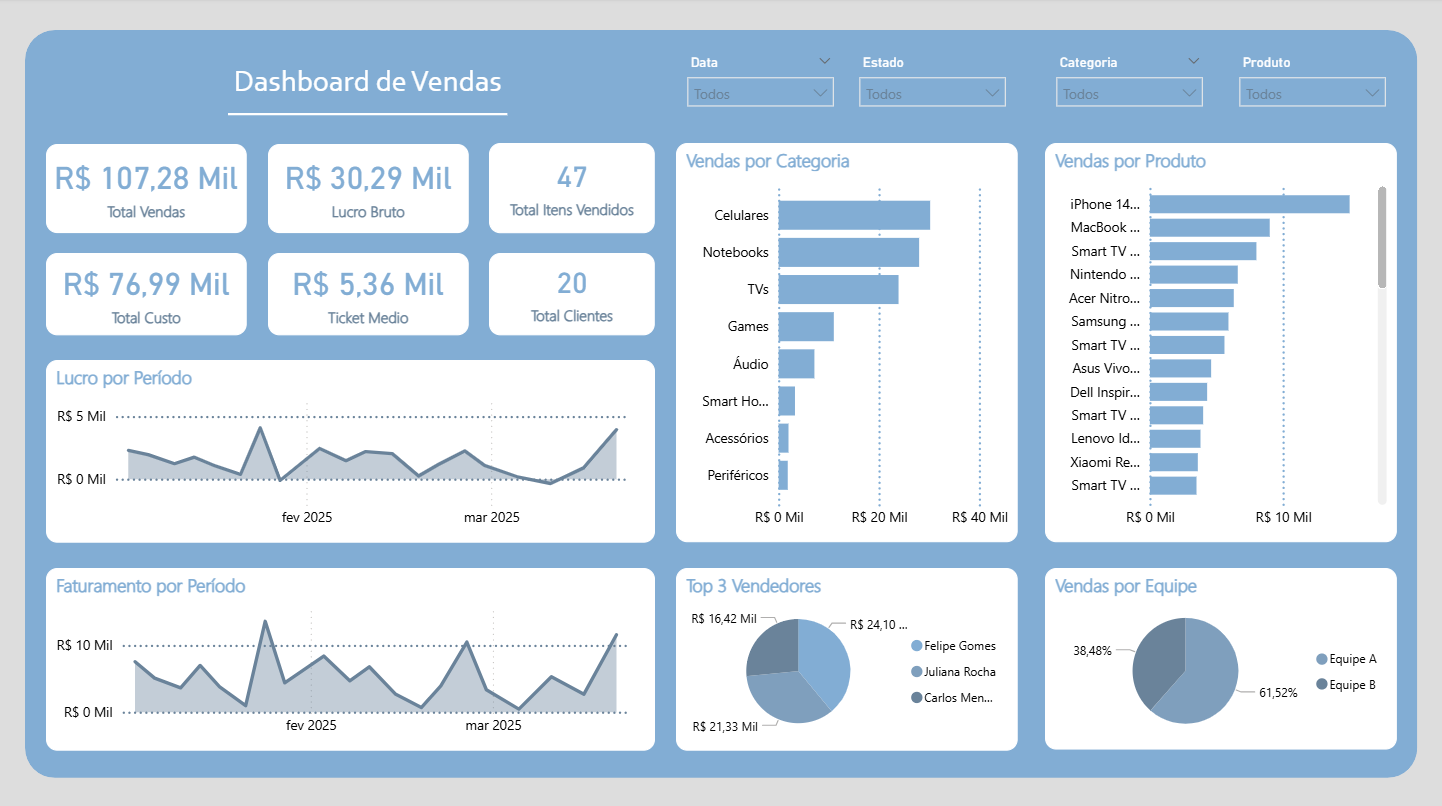

The page's visual inventory and layout, read from the dashboard file:
{"tool":"powerbi","page":{"name":"Dashboard","canvas":[1280,720],"ordinal":0},"visuals":[{"type":"shape","box":[22.7,28.6,1234.6,663.2],"z":0},{"type":"textbox","box":[203.3,52.3,247.7,44.4],"z":1000},{"type":"clusteredBarChart","title":"Vendas por Produto","fields":{"Y":["medidas.Total Vendas"],"Category":["produtos.nome_produto"]},"box":[927.5,128.6,312.1,353.8],"z":2000},{"type":"clusteredBarChart","title":"Vendas por Categoria","fields":{"Y":["medidas.Total Vendas"],"Category":["categorias.nome_categoria"]},"box":[600,128.3,303,354.3],"z":3000},{"type":"pieChart","title":"Top 3 Vendedores","fields":{"Y":["medidas.Total Vendas"],"Category":["vendedores.nome_vendedor"]},"box":[600,505.3,303,161.9],"z":4000},{"type":"areaChart","title":"Faturamento por Período","fields":{"Y":["medidas.Total Vendas"],"Category":["vendas.data_venda"]},"box":[41.4,505.3,539.8,161.9],"z":5000},{"type":"pieChart","title":"Vendas por Equipe","fields":{"Y":["medidas.Total Vendas"],"Category":["vendedores.equipe"]},"box":[927.5,505.4,312.1,161.4],"z":6000},{"type":"shape","box":[203.3,88.8,247.7,28.6],"z":6001},{"type":"areaChart","title":"Lucro por Período","fields":{"Category":["vendas.data_venda"],"Y":["medidas.Lucro Bruto"]},"box":[41.4,320.7,539.8,161.9],"z":6002},{"type":"card","fields":{"Values":["medidas.Total Vendas"]},"box":[41.4,129.3,177.6,79],"z":6003},{"type":"card","fields":{"Values":["medidas.Total Clientes"]},"box":[434.2,226,147,73],"z":6004},{"type":"card","fields":{"Values":["medidas.Lucro Bruto"]},"box":[238.8,129.3,177.6,79],"z":6005},{"type":"card","fields":{"Values":["medidas.Total Itens Vendidos"]},"box":[434.2,128.3,147,79.9],"z":6006},{"type":"card","fields":{"Values":["medidas.Total Custo"]},"box":[41.4,226,177.6,73],"z":6007},{"type":"card","fields":{"Values":["medidas.Ticket Medio"]},"box":[238.8,226,177.6,73],"z":6008},{"type":"slicer","fields":{"Values":["vendas.data_venda"]},"box":[600,45.4,150,58.2],"z":6010},{"type":"slicer","fields":{"Values":["categorias.nome_categoria"]},"box":[927.7,45.4,150,58.2],"z":6011},{"type":"slicer","fields":{"Values":["produtos.nome_produto"]},"box":[1089.8,45.2,149.9,58.5],"z":6012},{"type":"slicer","fields":{"Values":["clientes.estado"]},"box":[753,45.4,150,58.2],"z":6013}]}

Visuals, with their boxes in screenshot pixels (x1, y1, x2, y2), scaled from the page's 1280x720 canvas onto the 1442x806 screenshot:
shape: bbox=[26, 32, 1416, 774]
textbox: bbox=[229, 59, 508, 108]
"Vendas por Produto" clusteredBarChart: bbox=[1045, 144, 1396, 540]
"Vendas por Categoria" clusteredBarChart: bbox=[676, 144, 1017, 540]
"Top 3 Vendedores" pieChart: bbox=[676, 566, 1017, 747]
"Faturamento por Período" areaChart: bbox=[47, 566, 655, 747]
"Vendas por Equipe" pieChart: bbox=[1045, 566, 1396, 746]
shape: bbox=[229, 99, 508, 131]
"Lucro por Período" areaChart: bbox=[47, 359, 655, 540]
card - medidas.Total Vendas: bbox=[47, 145, 247, 233]
card - medidas.Total Clientes: bbox=[489, 253, 655, 335]
card - medidas.Lucro Bruto: bbox=[269, 145, 469, 233]
card - medidas.Total Itens Vendidos: bbox=[489, 144, 655, 233]
card - medidas.Total Custo: bbox=[47, 253, 247, 335]
card - medidas.Ticket Medio: bbox=[269, 253, 469, 335]
slicer - vendas.data_venda: bbox=[676, 51, 845, 116]
slicer - categorias.nome_categoria: bbox=[1045, 51, 1214, 116]
slicer - produtos.nome_produto: bbox=[1228, 51, 1397, 116]
slicer - clientes.estado: bbox=[848, 51, 1017, 116]
